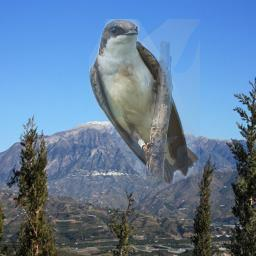Swallow: (89, 19, 200, 186)
